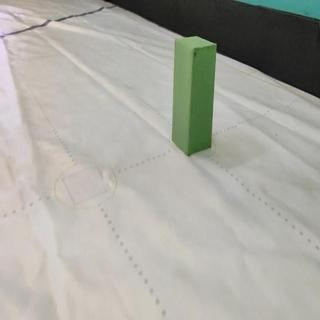greenbox: (172, 36, 217, 156)
